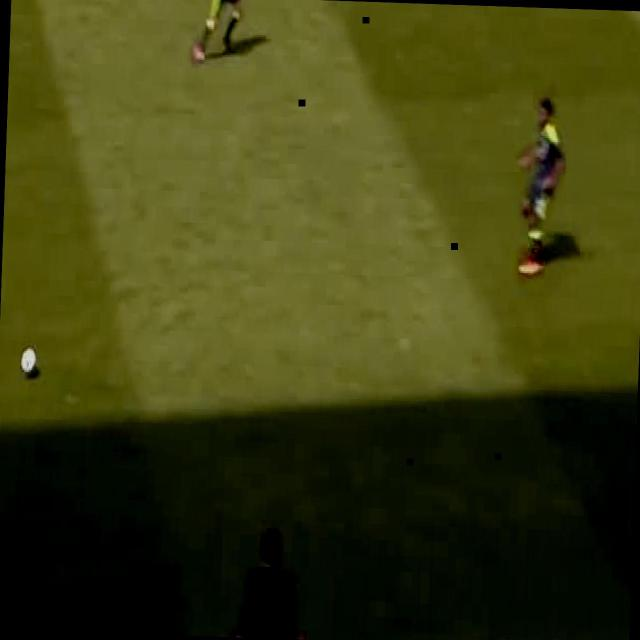ball: (20, 347, 36, 373)
player-white: (514, 98, 566, 276), (190, 0, 243, 61)
